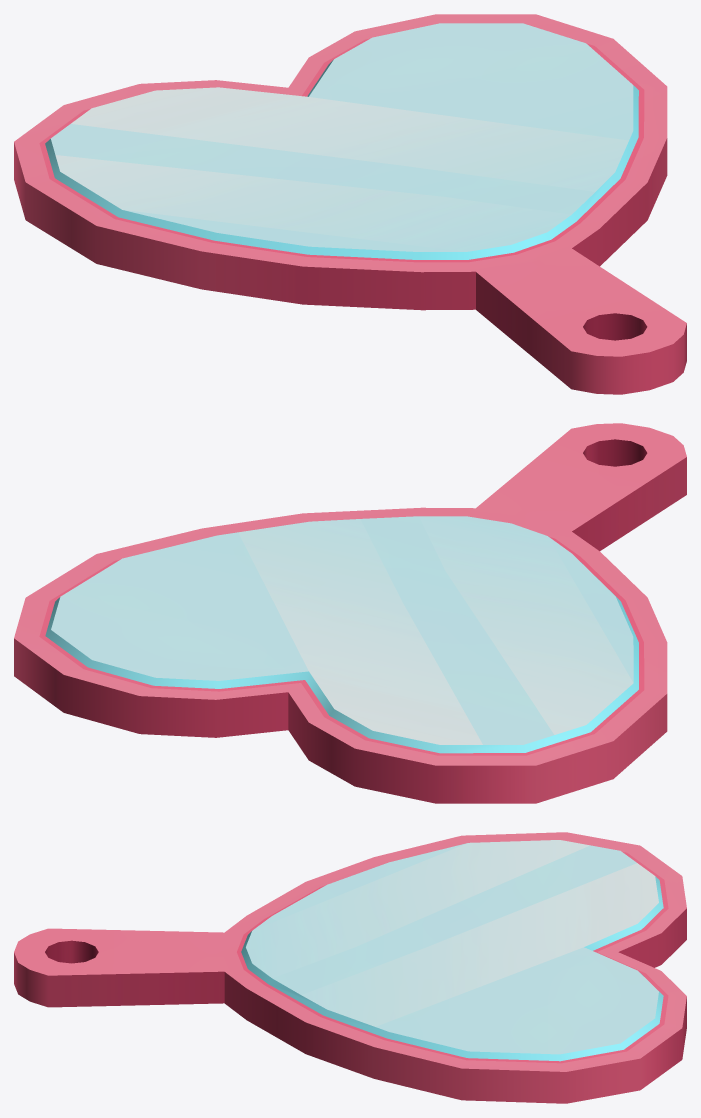
Rendered from Doll_OB_Vanity_001_2.fbx.
3 views of the same model, one above another, from view 1: azimuth 30°, elevation 25°; view 2: azimuth 150°, elevation 25°; view 3: azimuth 270°, elevation 25° (orthographic). The views are drawn at different scales.
Parts seen in each view (by area): view 1: Doll_OB_Vanity_001_2; view 2: Doll_OB_Vanity_001_2; view 3: Doll_OB_Vanity_001_2.
Boxes of the visible parts, x1=… form: Doll_OB_Vanity_001_2: x1=14, y1=14, x2=686, y2=394; Doll_OB_Vanity_001_2: x1=14, y1=423, x2=686, y2=803; Doll_OB_Vanity_001_2: x1=14, y1=832, x2=686, y2=1103.
Bounding box in the file's own units: 12.87 × 0.9171 × 15.26.
